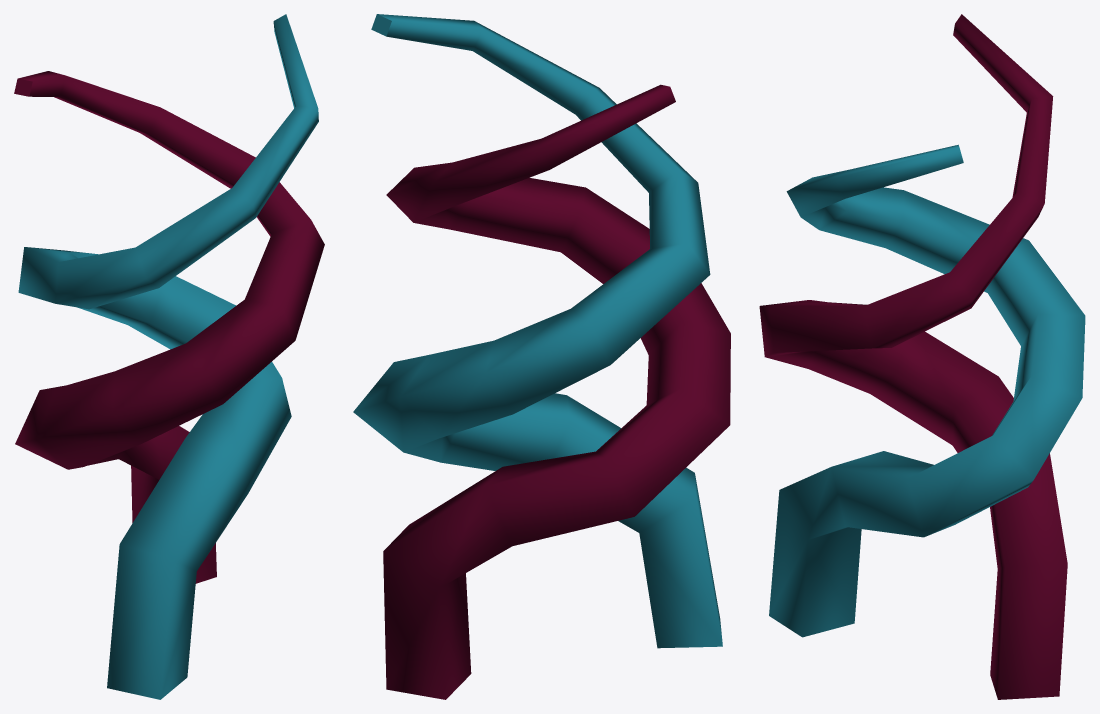
The model's file is Plant_2.glb.
3 renders of one model, left to right at view 1: azimuth 30°, elevation 25°; view 2: azimuth 150°, elevation 25°; view 3: azimuth 270°, elevation 25°, orthographic. The views are drawn at different scales.
Parts seen in each view (by area): view 1: Plant_2; view 2: Plant_2; view 3: Plant_2.
Boxes of the visible parts, bbox=[...] form: Plant_2: bbox=[14, 14, 324, 699]; Plant_2: bbox=[353, 14, 730, 699]; Plant_2: bbox=[759, 14, 1085, 699].
Size of the model in its own units: 1.06 by 1.97 by 1.01.
